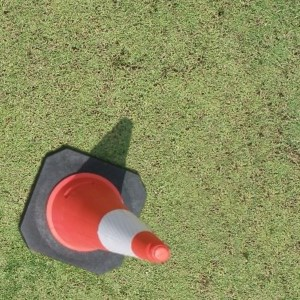traffic cone: (18, 144, 169, 274)
